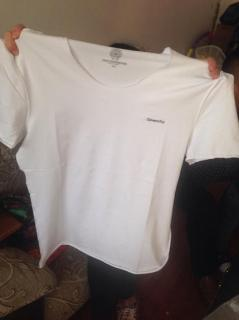short sleeve top: (0, 28, 239, 274)
